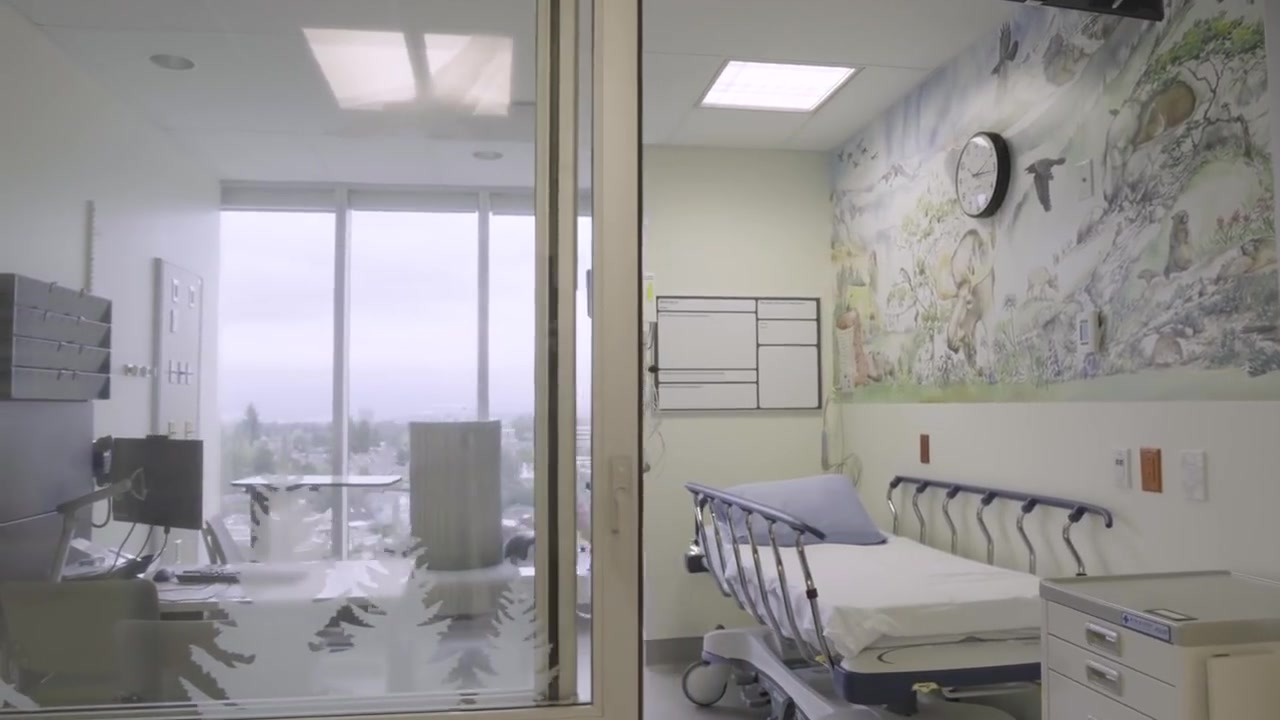bedrail: (685, 480, 840, 661), (881, 475, 1113, 578)
chair: (392, 420, 534, 635), (112, 620, 363, 706), (1, 578, 156, 705), (201, 510, 255, 562)
computer: (114, 437, 203, 532)
door_handle: (608, 450, 640, 560)
hospital_bed: (681, 473, 1112, 720)
keyboard: (177, 564, 248, 581)
medical_drawer: (1040, 575, 1280, 720)
mouse: (151, 560, 176, 587)
overbed_table: (228, 471, 405, 562)
table: (74, 561, 420, 610)
telephone: (91, 431, 117, 488)
